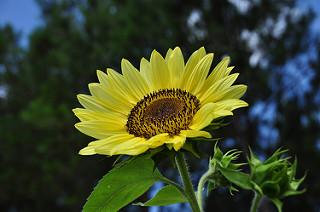sunflower: (74, 46, 251, 161)
